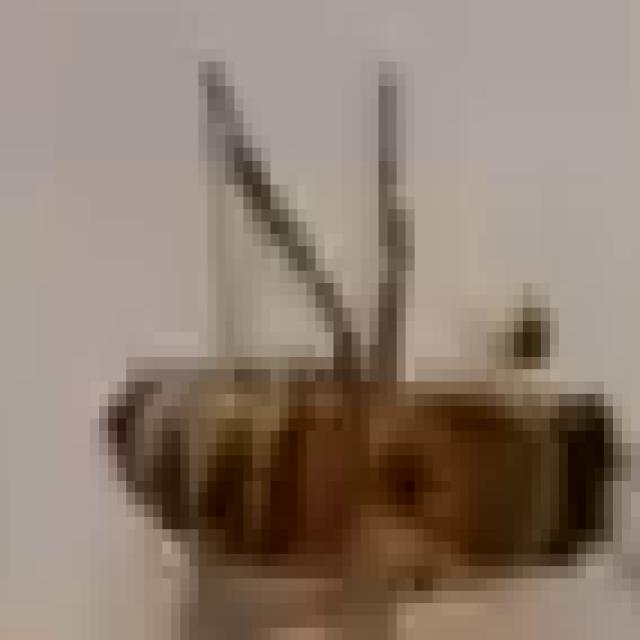honeybee: (90, 258, 640, 628)
